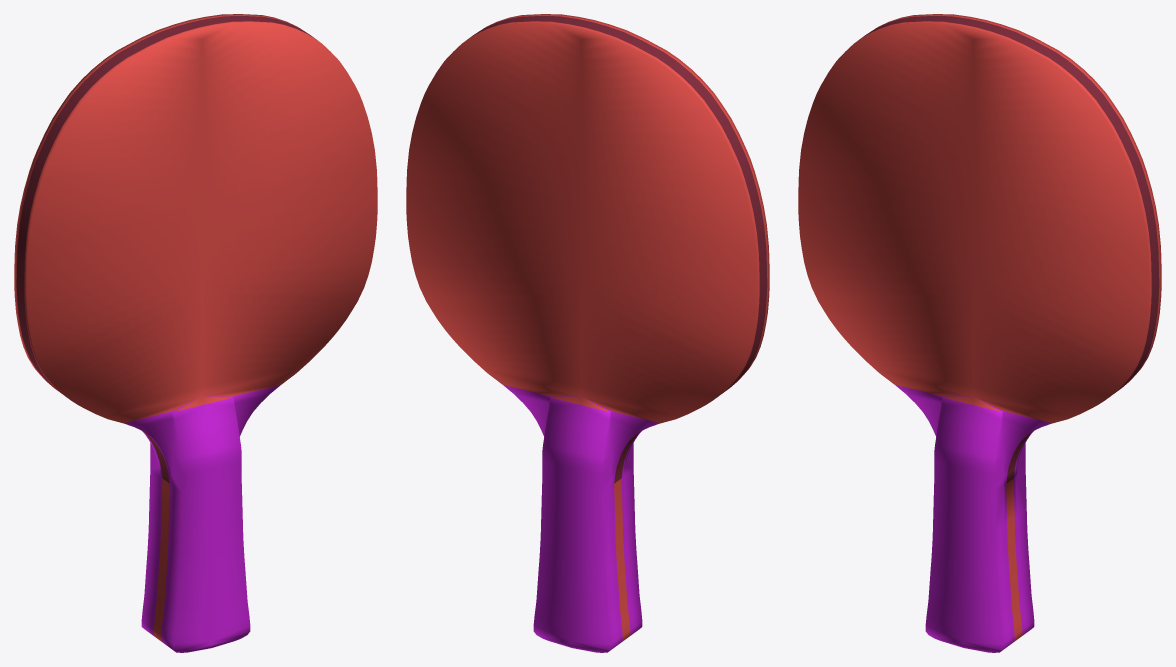
The model's file is pingpong_paddle.glb.
3 views of the same model, side by side, from view 1: azimuth 30°, elevation 25°; view 2: azimuth 150°, elevation 25°; view 3: azimuth 330°, elevation 25° (orthographic).
Parts seen in each view (by area): view 1: Circle; view 2: Circle; view 3: Circle.
Part boxes in pixels (x1,y1,x2,y2): Circle: [14, 14, 377, 652]; Circle: [406, 14, 769, 652]; Circle: [798, 14, 1161, 652].
Bounding box in the file's own units: 2.18 × 3.63 × 0.3401.
